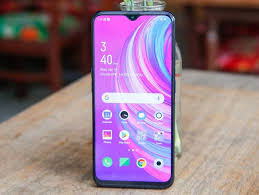samsung: (90, 10, 177, 190)
